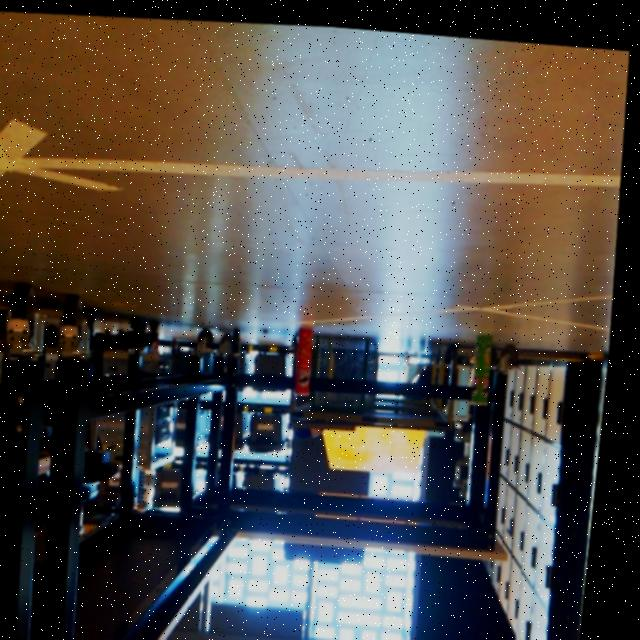greenpringles: (467, 309, 503, 400)
redpringles: (278, 282, 333, 407)
